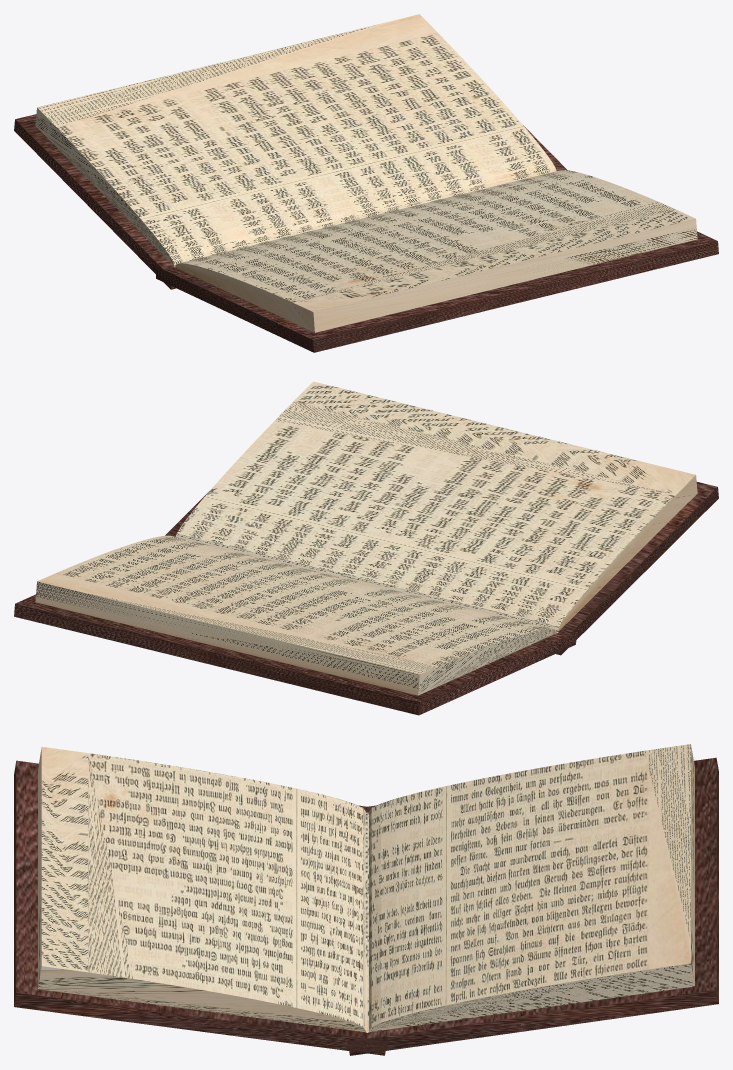
File: book.fbx
The picture shows the model from 3 angles, top to bottom: view 1: azimuth 30°, elevation 25°; view 2: azimuth 150°, elevation 25°; view 3: azimuth 270°, elevation 25°; orthographic projection. The views are drawn at different scales.
Visible parts, largest first — view 1: Cube; view 2: Cube; view 3: Cube.
Part boxes in pixels (bbox=[...]): Cube: bbox=[14, 14, 718, 352]; Cube: bbox=[14, 381, 718, 715]; Cube: bbox=[14, 744, 718, 1055].
Size of the model in its own units: 32.78 by 5.68 by 42.08.
